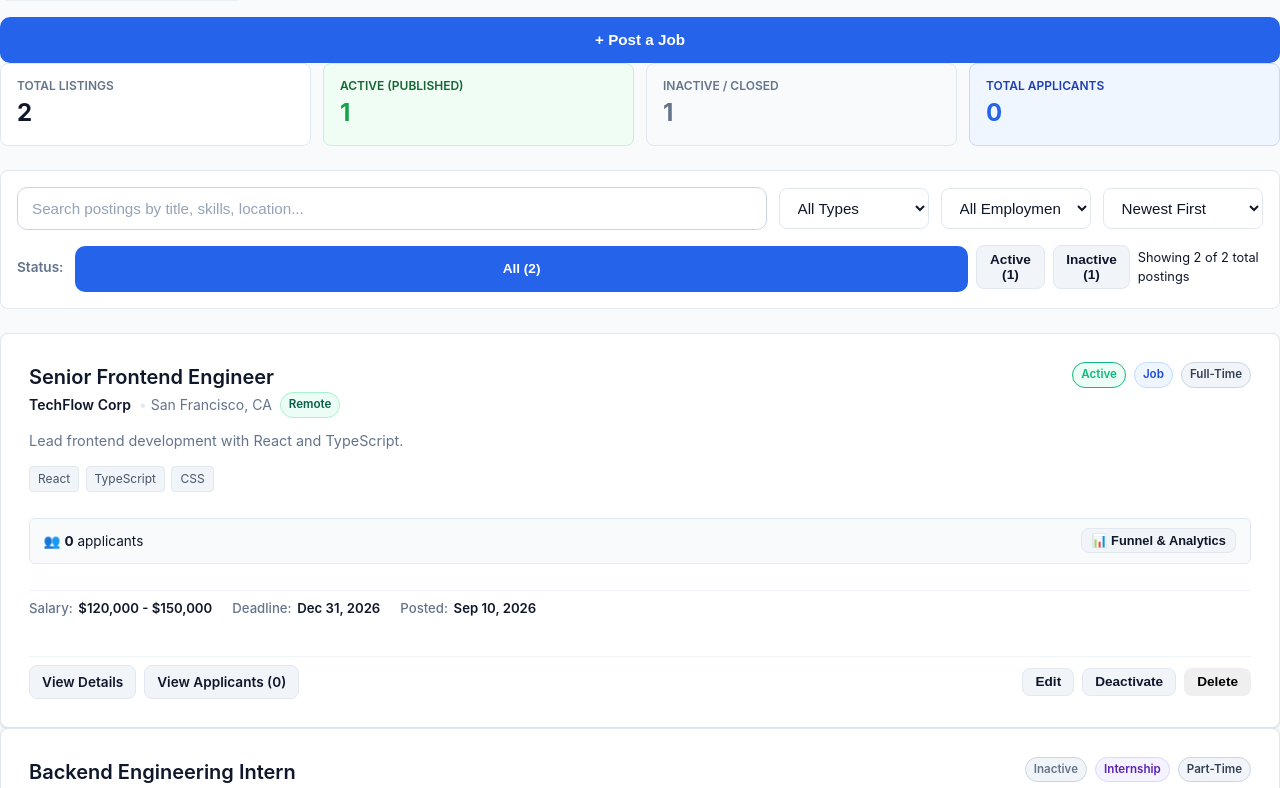
Test: RecruiterJobsPage Component › handles quick deactivation and reactivation lifecycle toggles
Deactivate active job 101
Click the button with test id "toggle-active-btn-101": (1129, 682) [1082, 668, 1176, 696]
(page scrolled)
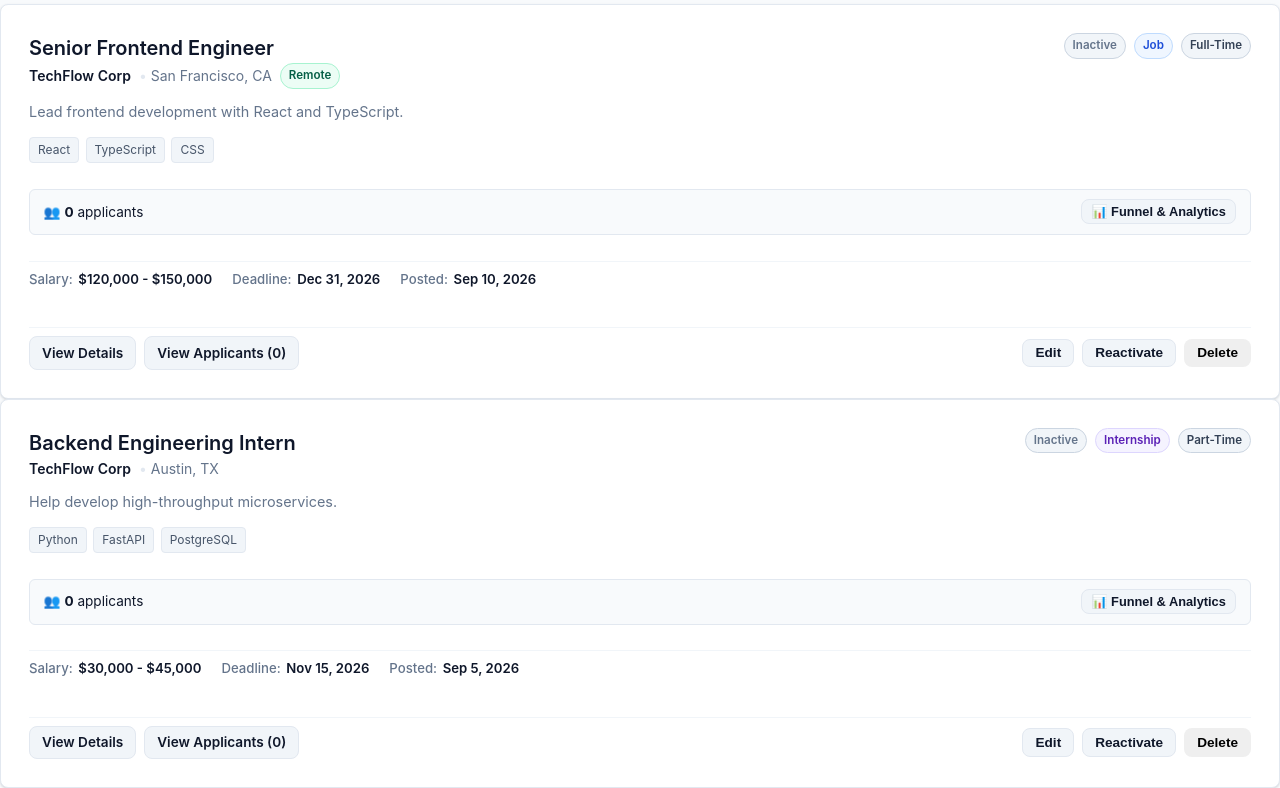
expect the text with test id "status-badge-101" reads "Inactive": met, box [1073, 38, 1117, 52]
expect the button with test id "toggle-active-btn-101" reads "Reactivate": met, box [1082, 339, 1176, 367]
Reactivate inactive job 102
Click the button with test id "toggle-active-btn-102": (1129, 742) [1082, 728, 1176, 757]
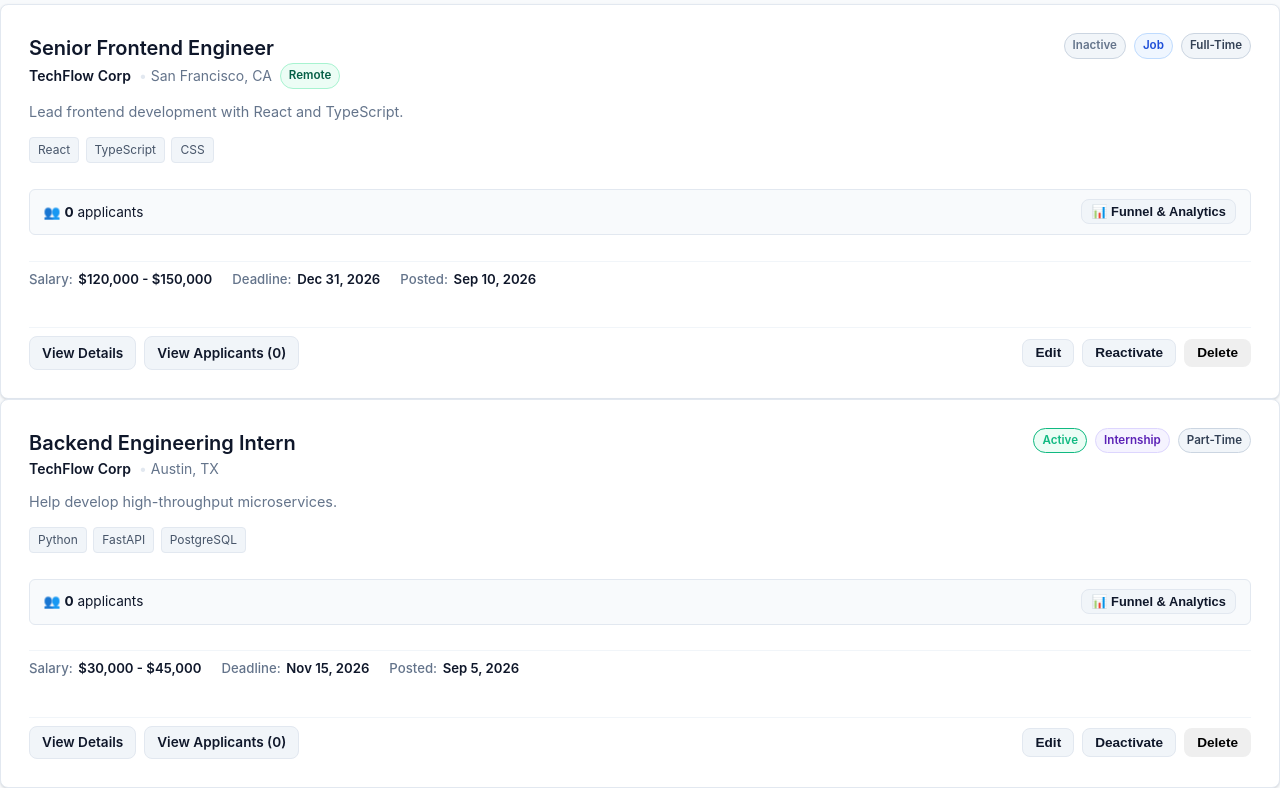
expect the text with test id "status-badge-102" reads "Active": met, box [1042, 433, 1078, 447]
expect the button with test id "toggle-active-btn-102" reads "Deactivate": met, box [1082, 728, 1176, 757]
